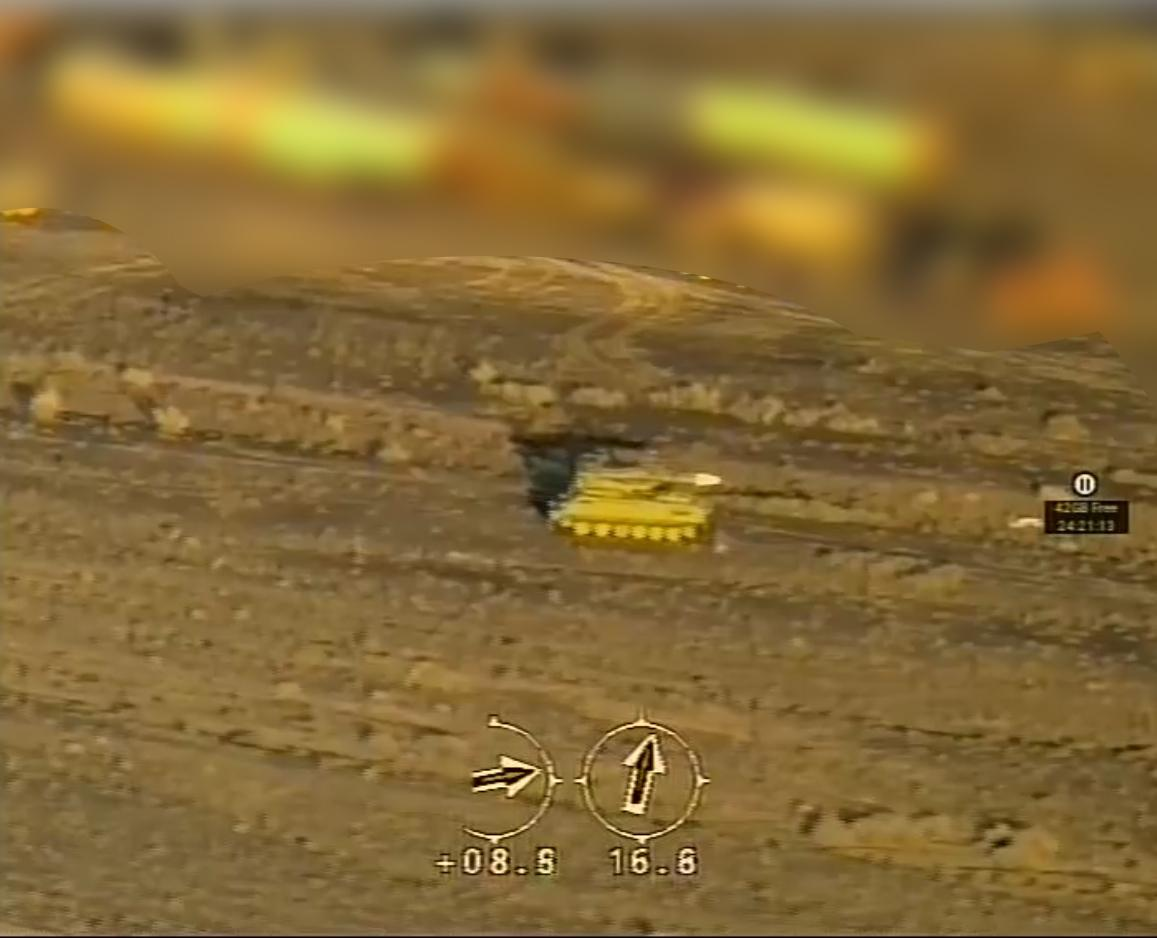armored_car: (533, 445, 735, 546)
